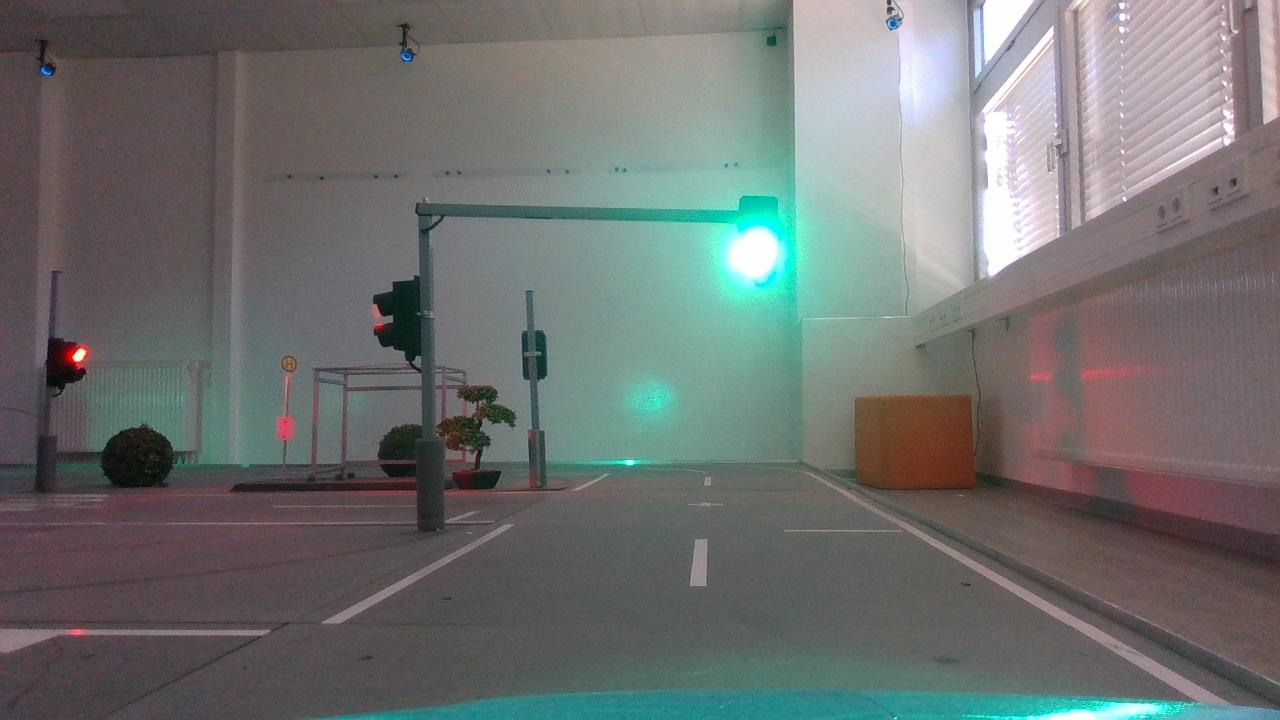traffic_light_green: (722, 179, 788, 302)
